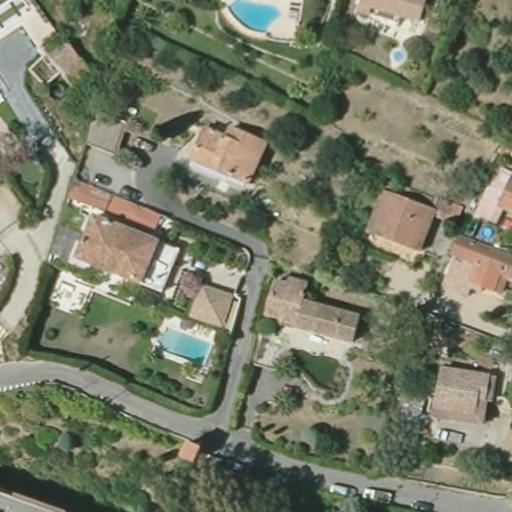pool: (149, 318, 218, 373), (226, 0, 283, 35), (383, 45, 413, 66), (481, 220, 494, 241)
